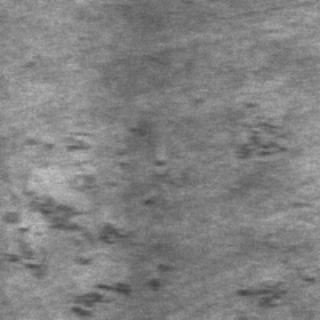rolled pit: (1, 120, 162, 318), (230, 92, 290, 175), (224, 270, 314, 310)
